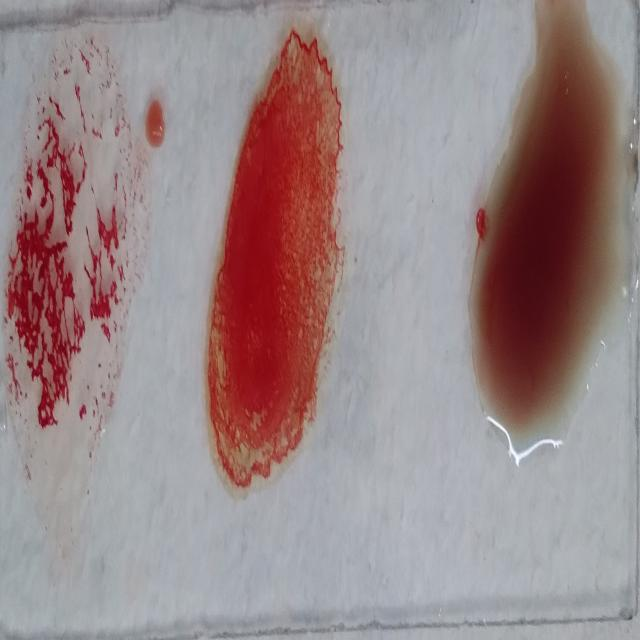B: (208, 22, 348, 490)
D: (5, 20, 140, 507)
